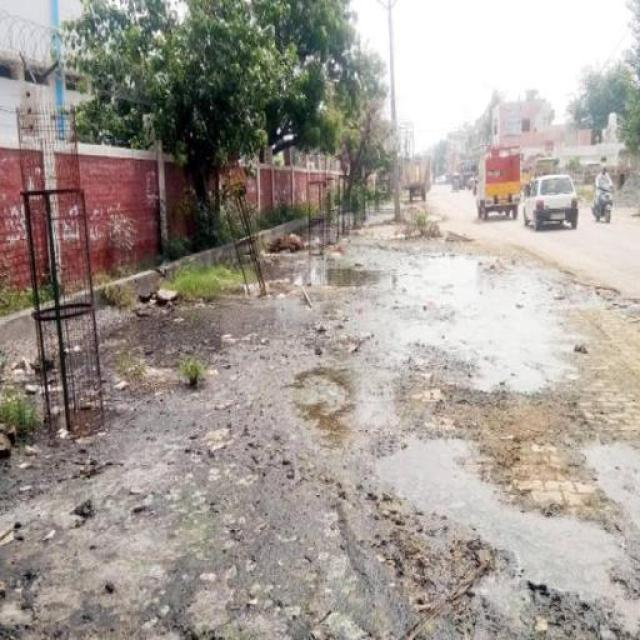puddle: (395, 242, 565, 402), (261, 260, 399, 312)
